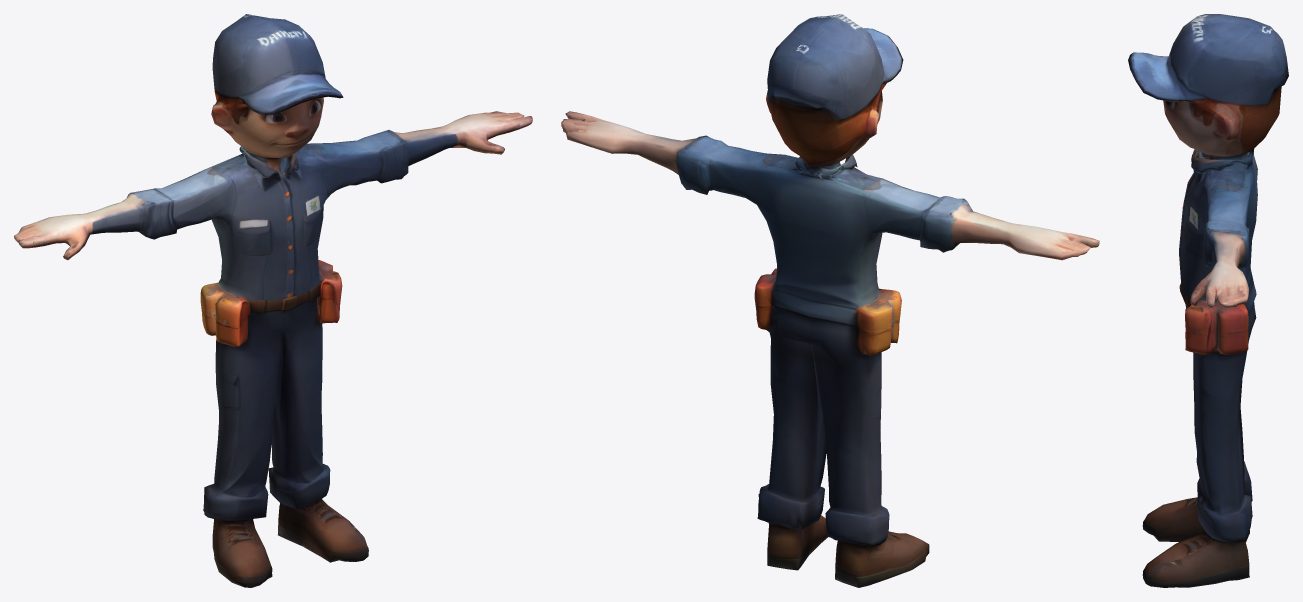
Rendered from A_low_poly_3D_model_o_0318154033_texture.fbx.
The picture shows the model from 3 angles, left to right: view 1: azimuth 30°, elevation 25°; view 2: azimuth 150°, elevation 25°; view 3: azimuth 270°, elevation 25°; orthographic projection. The views are drawn at different scales.
Visible parts, largest first — view 1: Mesh1; view 2: Mesh1; view 3: Mesh1.
Part boxes in pixels (x1,y1,x2,y2): Mesh1: (14,14,532,587); Mesh1: (561,14,1099,587); Mesh1: (1128,14,1288,587).
Size of the model in its own units: 199 by 194 by 52.7.
1 material, 1 textured.
